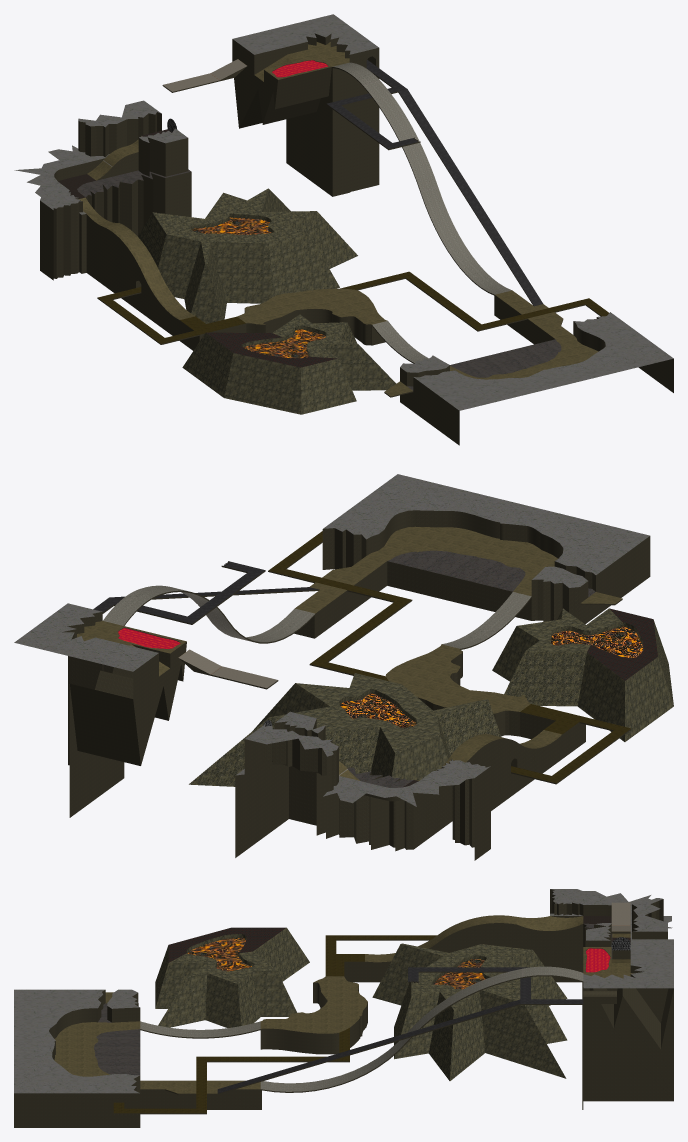
3 views of the same model, one above another, from view 1: azimuth 30°, elevation 25°; view 2: azimuth 150°, elevation 25°; view 3: azimuth 270°, elevation 25° (orthographic). The views are drawn at different scales.
Visible parts, largest first — view 1: Vulcan_Mine_2014_Main-Matire3, Vulcan_Mine_2014_Main-Matire9, Vulcan_Mine_2014_Main-Matire5, Vulcan_Mine_2014_Main-Matire11, Vulcan_Mine_2014_Main-Matire10, Vulcan_Mine_2014_Main-Matire15, Vulcan_Mine_2014_Main-Matire12, Vulcan_Mine_2014_Main-Matire6, Vulcan_Mine_2014_Main-Matire16, Vulcan_Mine_2014_Main-Matire8, Vulcan_Mine_2014_Main-Matire23, Vulcan_Mine_2014_Main-Matire17 (+1 smaller); view 2: Vulcan_Mine_2014_Main-Matire3, Vulcan_Mine_2014_Main-Matire9, Vulcan_Mine_2014_Main-Matire5, Vulcan_Mine_2014_Main-Matire11, Vulcan_Mine_2014_Main-Matire15, Vulcan_Mine_2014_Main-Matire6, Vulcan_Mine_2014_Main-Matire10, Vulcan_Mine_2014_Main-Matire8, Vulcan_Mine_2014_Main-Matire23, Vulcan_Mine_2014_Main-Matire17, Vulcan_Mine_2014_Main-Matire12, Vulcan_Mine_2014_Main-Matire2 (+2 smaller); view 3: Vulcan_Mine_2014_Main-Matire3, Vulcan_Mine_2014_Main-Matire9, Vulcan_Mine_2014_Main-Matire5, Vulcan_Mine_2014_Main-Matire11, Vulcan_Mine_2014_Main-Matire10, Vulcan_Mine_2014_Main-Matire15, Vulcan_Mine_2014_Main-Matire6, Vulcan_Mine_2014_Main-Matire12, Vulcan_Mine_2014_Main-Matire8, Vulcan_Mine_2014_Main-Matire16, Vulcan_Mine_2014_Main-Matire23, Vulcan_Mine_2014_Main-Matire17 (+2 smaller).
Boxes of the visible parts, x1,y1,x2,y2 form: Vulcan_Mine_2014_Main-Matire3: (40, 33, 673, 445); Vulcan_Mine_2014_Main-Matire9: (138, 188, 396, 414); Vulcan_Mine_2014_Main-Matire5: (14, 14, 673, 410); Vulcan_Mine_2014_Main-Matire11: (237, 42, 598, 396); Vulcan_Mine_2014_Main-Matire10: (332, 62, 511, 362); Vulcan_Mine_2014_Main-Matire15: (97, 271, 608, 343); Vulcan_Mine_2014_Main-Matire12: (79, 54, 296, 319); Vulcan_Mine_2014_Main-Matire6: (77, 169, 561, 390); Vulcan_Mine_2014_Main-Matire16: (398, 89, 543, 306); Vulcan_Mine_2014_Main-Matire8: (191, 217, 325, 358); Vulcan_Mine_2014_Main-Matire23: (206, 332, 338, 367); Vulcan_Mine_2014_Main-Matire17: (327, 60, 418, 148); Vulcan_Mine_2014_Main-Matire3: (62, 510, 650, 860); Vulcan_Mine_2014_Main-Matire9: (189, 608, 673, 786); Vulcan_Mine_2014_Main-Matire5: (14, 474, 649, 806); Vulcan_Mine_2014_Main-Matire11: (77, 526, 622, 713); Vulcan_Mine_2014_Main-Matire15: (268, 531, 630, 783); Vulcan_Mine_2014_Main-Matire6: (347, 550, 595, 787); Vulcan_Mine_2014_Main-Matire10: (103, 585, 531, 648); Vulcan_Mine_2014_Main-Matire8: (340, 626, 642, 728); Vulcan_Mine_2014_Main-Matire23: (587, 608, 657, 680); Vulcan_Mine_2014_Main-Matire17: (93, 561, 265, 623); Vulcan_Mine_2014_Main-Matire12: (129, 644, 561, 780); Vulcan_Mine_2014_Main-Matire2: (179, 650, 277, 688); Vulcan_Mine_2014_Main-Matire3: (14, 889, 673, 1127); Vulcan_Mine_2014_Main-Matire9: (155, 928, 567, 1080); Vulcan_Mine_2014_Main-Matire5: (14, 889, 673, 1093); Vulcan_Mine_2014_Main-Matire11: (54, 947, 633, 1093); Vulcan_Mine_2014_Main-Matire10: (140, 966, 583, 1091); Vulcan_Mine_2014_Main-Matire15: (113, 935, 436, 1113); Vulcan_Mine_2014_Main-Matire6: (94, 923, 612, 1075); Vulcan_Mine_2014_Main-Matire12: (365, 915, 630, 962); Vulcan_Mine_2014_Main-Matire8: (187, 937, 485, 989); Vulcan_Mine_2014_Main-Matire16: (217, 999, 520, 1093); Vulcan_Mine_2014_Main-Matire23: (168, 927, 286, 962); Vulcan_Mine_2014_Main-Matire17: (408, 967, 583, 1003).
Bounding box in the file's own units: 66425 × 23661 × 104039.
Materials: 22 (22 with a texture image).
